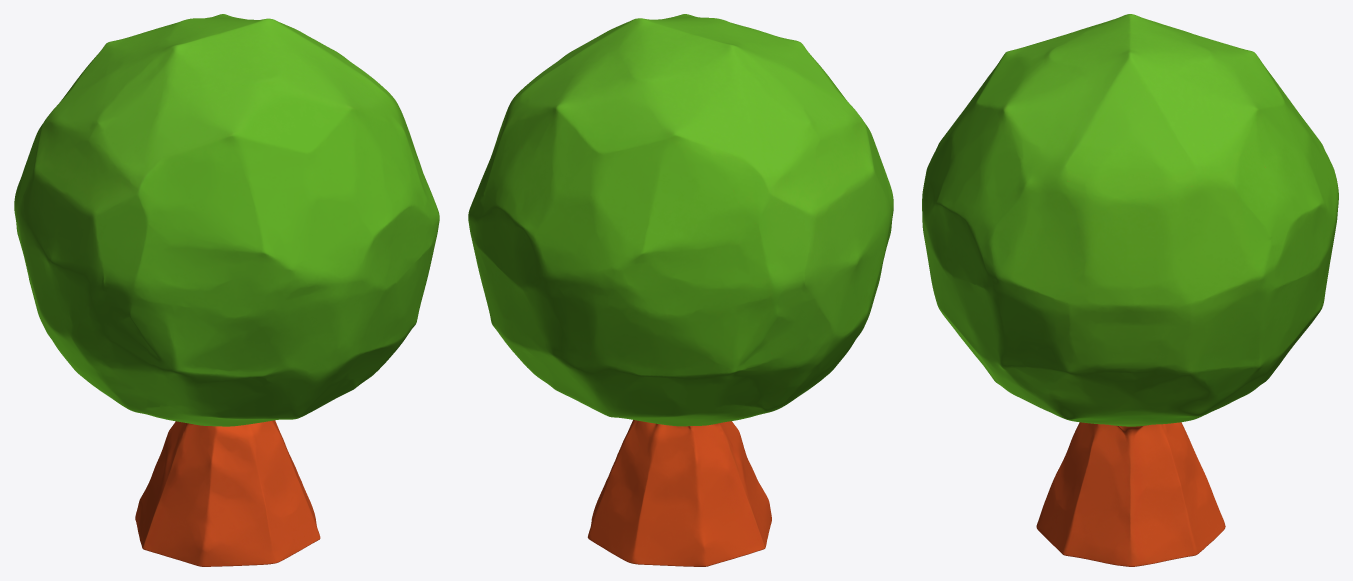
The model's file is Meshy_AI_tree_bush_3d_0917235249_image-to-3d-texture.fbx.
3 renders of one model, left to right at view 1: azimuth 30°, elevation 25°; view 2: azimuth 150°, elevation 25°; view 3: azimuth 270°, elevation 25°, orthographic.
Visible parts, largest first — view 1: Mesh_0; view 2: Mesh_0; view 3: Mesh_0.
Part boxes in pixels (box(x1,y1,x2,y2)): Mesh_0: box(14, 14, 439, 566); Mesh_0: box(468, 14, 893, 566); Mesh_0: box(922, 14, 1338, 566).
Bounding box in the file's own units: 142 × 190 × 146.
Materials: 1 (1 with a texture image).
